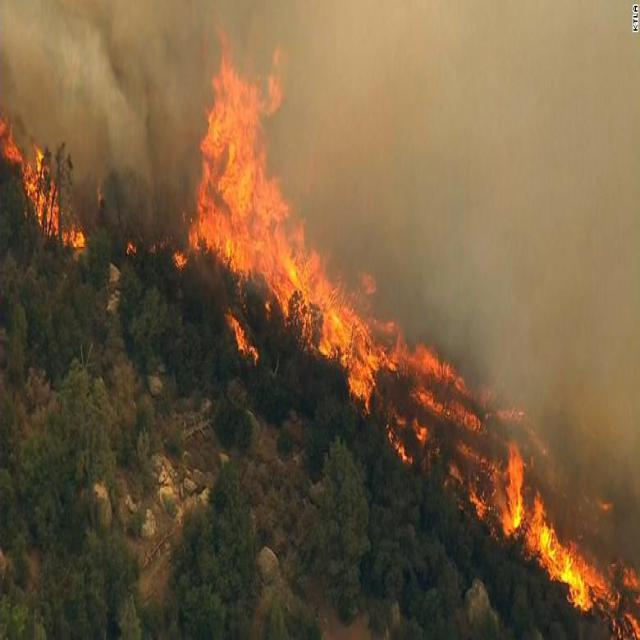Fire: (184, 45, 388, 392), (403, 347, 629, 612), (5, 110, 87, 248)
